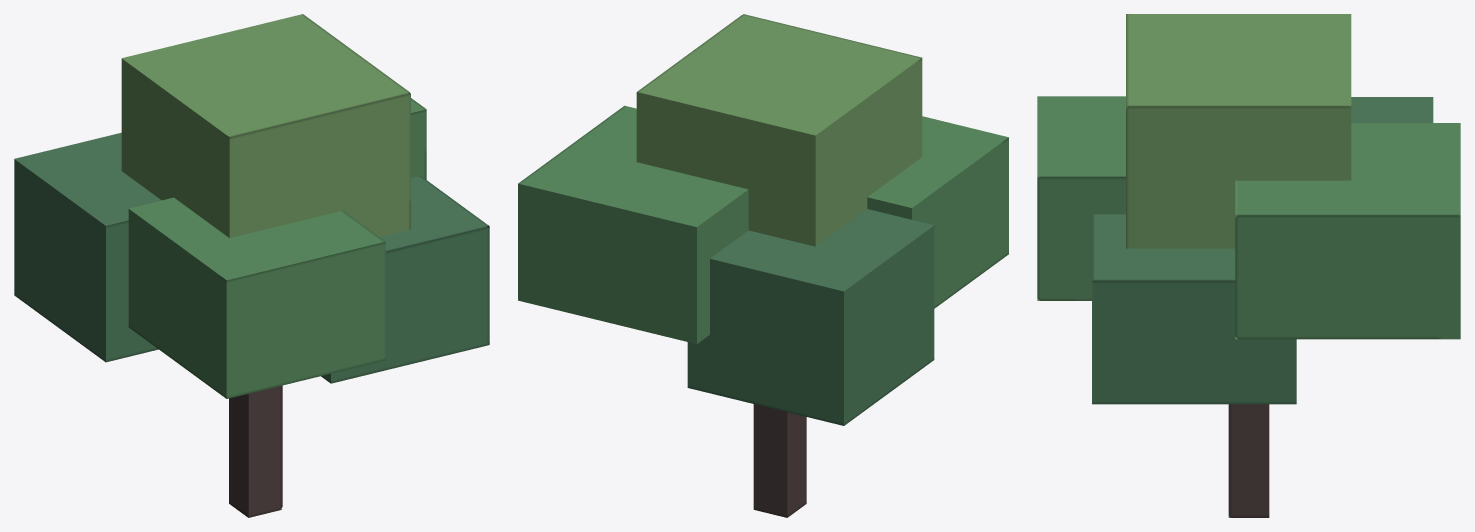
File: tree 1.fbx
3 renders of one model, left to right at view 1: azimuth 30°, elevation 25°; view 2: azimuth 150°, elevation 25°; view 3: azimuth 270°, elevation 25°, orthographic. The views are drawn at different scales.
Visible parts, largest first — view 1: cube_6, cube_3, cube_2, cube_4, cube, cube_5; view 2: cube_6, cube_2, cube_5, cube_3, cube; view 3: cube_6, cube_5, cube_4, cube_3, cube, cube_2.
Part boxes in pixels (x1,y1,x2,y2): cube_6: [121, 14, 410, 238]; cube_3: [128, 197, 385, 398]; cube_2: [14, 132, 161, 362]; cube_4: [321, 176, 489, 383]; cube: [229, 385, 282, 517]; cube_5: [411, 98, 426, 179]; cube_6: [636, 14, 922, 246]; cube_2: [687, 209, 934, 425]; cube_5: [518, 105, 748, 343]; cube_3: [867, 116, 1008, 308]; cube: [753, 404, 806, 517]; cube_6: [1126, 14, 1351, 248]; cube_5: [1235, 123, 1460, 339]; cube_4: [1092, 214, 1296, 404]; cube_3: [1037, 96, 1125, 300]; cube: [1228, 404, 1269, 517]; cube_2: [1351, 97, 1433, 122].
Bounding box in the file's own units: 350 × 456 × 388.
Materials: 1 (1 with a texture image).
